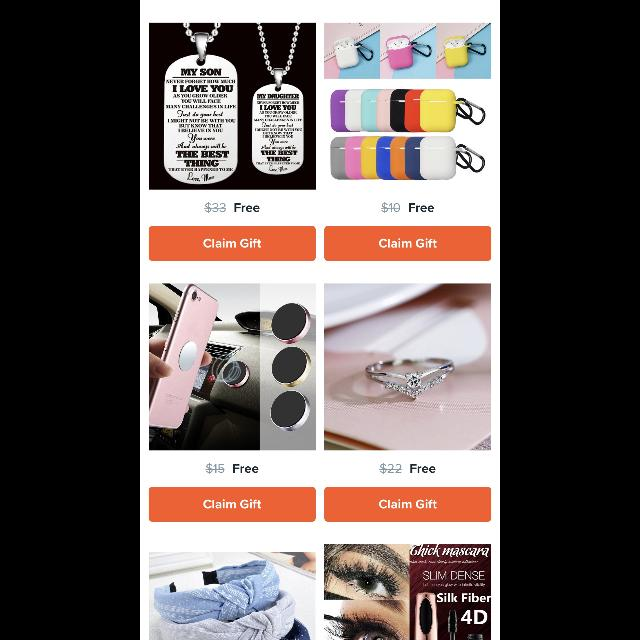image: (148, 22, 316, 190), (324, 284, 492, 451), (148, 284, 316, 451), (324, 22, 492, 180), (324, 544, 492, 640), (149, 552, 315, 640)
text: (204, 202, 226, 214), (410, 464, 436, 474), (234, 464, 258, 474), (382, 202, 401, 214), (380, 464, 402, 474), (234, 204, 260, 212), (410, 204, 434, 212), (207, 464, 226, 474)
textbutton: (148, 226, 316, 262), (324, 226, 492, 262), (324, 486, 492, 522), (148, 486, 316, 522)
